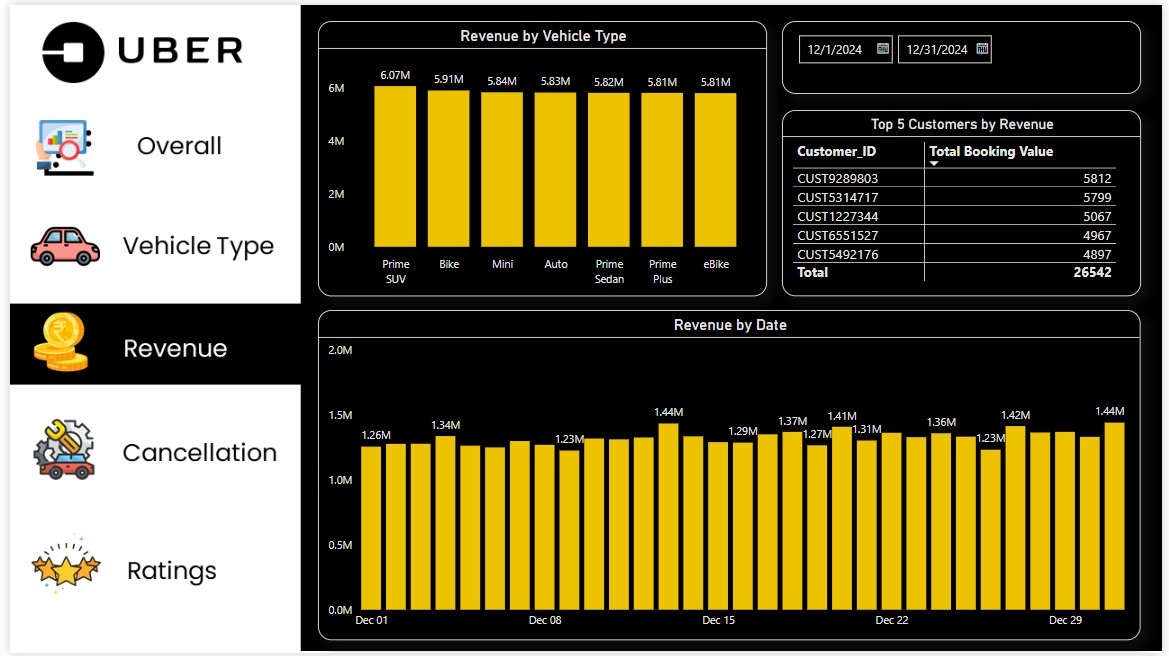

Layout of this report page (visuals, bound fields, positions):
{"tool":"powerbi","page":{"name":"Revenue","canvas":[1280,720],"ordinal":2},"visuals":[{"type":"actionButton","box":[0,225.9,323.5,88.2],"z":0},{"type":"actionButton","box":[0,578.8,323.5,88.2],"z":1000},{"type":"actionButton","box":[0,452.9,323.5,88.2],"z":2000},{"type":"actionButton","box":[0,116.5,323.5,88.2],"z":3000},{"type":"columnChart","title":"Revenue by Payment Method","fields":{"Category":["Bookings_Data.Payment_Mode"],"Y":["Sum(Bookings_Data.Booking_Value)"]},"box":[342.4,17.6,498.8,305.9],"z":4000},{"type":"columnChart","title":"Revenue by Date","fields":{"Category":["Bookings_Data.Date"],"Y":["Sum(Bookings_Data.Booking_Value)"]},"box":[342.4,338.8,914.1,367.1],"z":5000},{"type":"tableEx","title":"Top 5 Customers by Revenue","fields":{"Values":["Bookings_Data.Customer_ID","Sum(Bookings_Data.Booking_Value)"]},"box":[857.6,116.5,398.8,207.1],"z":6000},{"type":"slicer","fields":{"Values":["Bookings_Data.Date"]},"box":[857.2,18,399.4,81],"z":7000}]}

Visuals, with their boxes in screenshot pixels (x1, y1, x2, y2), scaled from the page's 1280x720 canvas onto the 1169x656 screenshot:
actionButton: bbox=[0, 206, 295, 286]
actionButton: bbox=[0, 527, 295, 608]
actionButton: bbox=[0, 413, 295, 493]
actionButton: bbox=[0, 106, 295, 187]
"Revenue by Payment Method" columnChart: bbox=[313, 16, 768, 295]
"Revenue by Date" columnChart: bbox=[313, 309, 1148, 643]
"Top 5 Customers by Revenue" tableEx: bbox=[783, 106, 1147, 295]
slicer - Bookings_Data.Date: bbox=[783, 16, 1148, 90]
